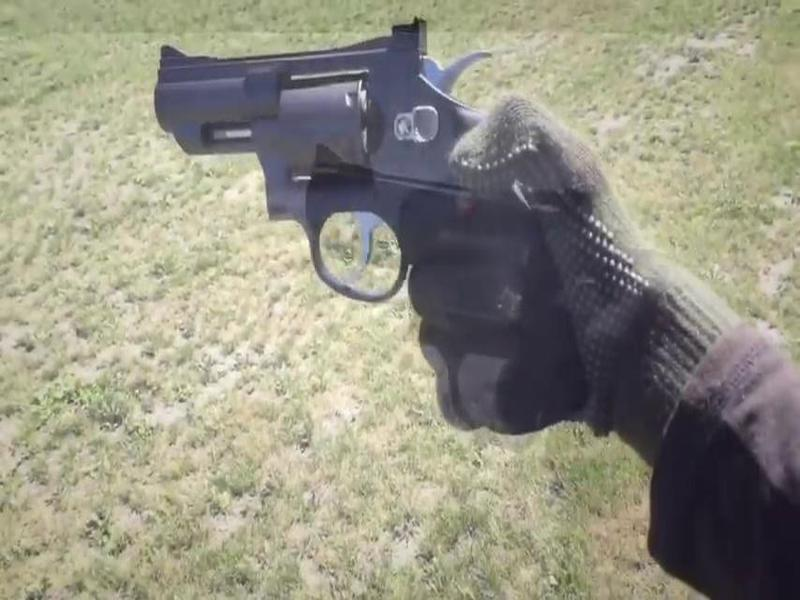Revolver: (142, 11, 595, 450)
